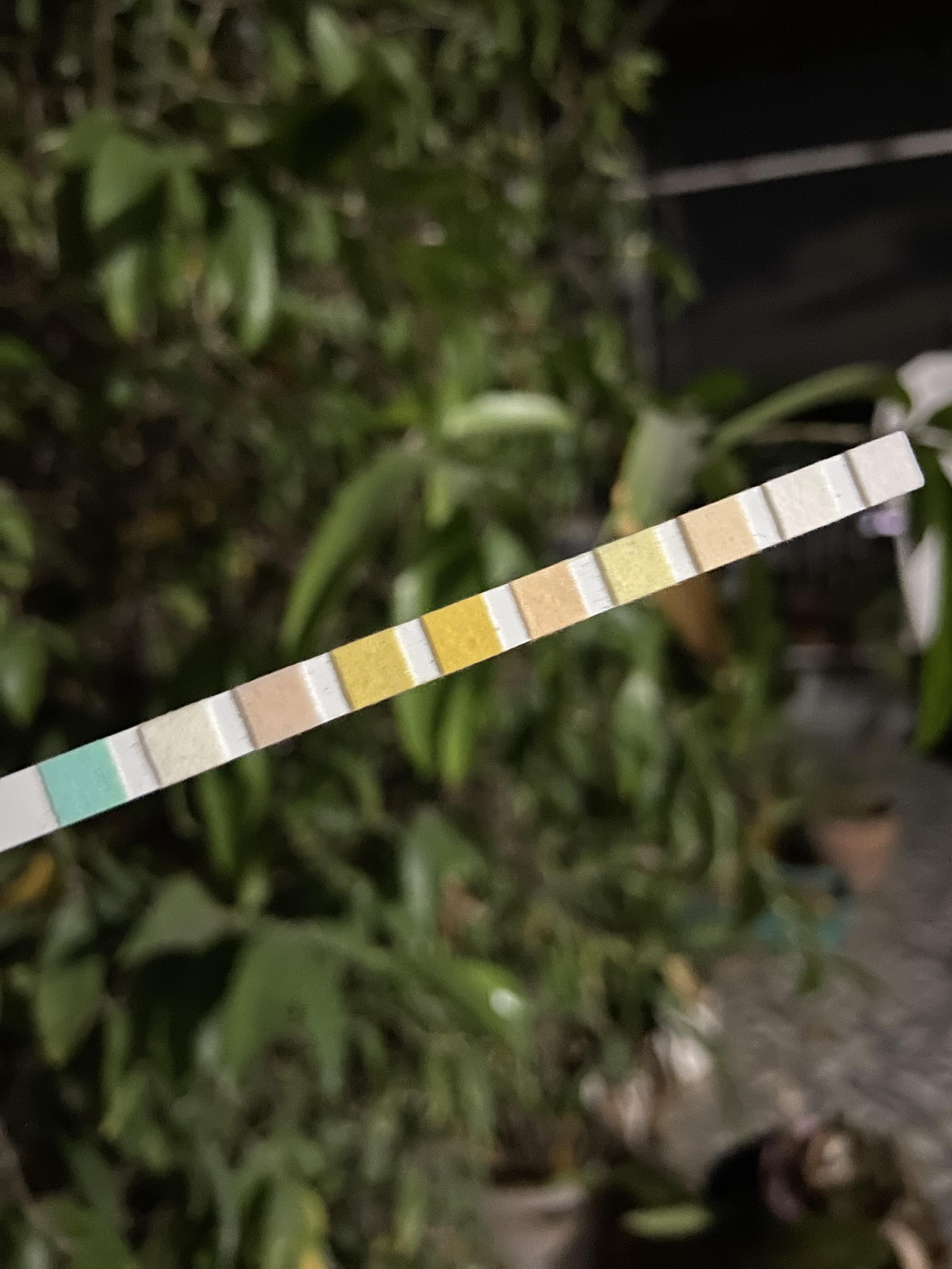Bilirubin: (163, 715, 210, 769)
Blood: (440, 609, 482, 658)
Glucose: (57, 757, 108, 809)
Ketone: (257, 680, 303, 732)
Leukocytes: (865, 444, 905, 492)
Nitrite: (785, 478, 826, 524)
Protein: (612, 541, 658, 589)
SpGravity: (353, 642, 397, 695)
Urobilinogen: (697, 509, 741, 554)
pH: (526, 577, 573, 621)
strip: (0, 431, 925, 852)
